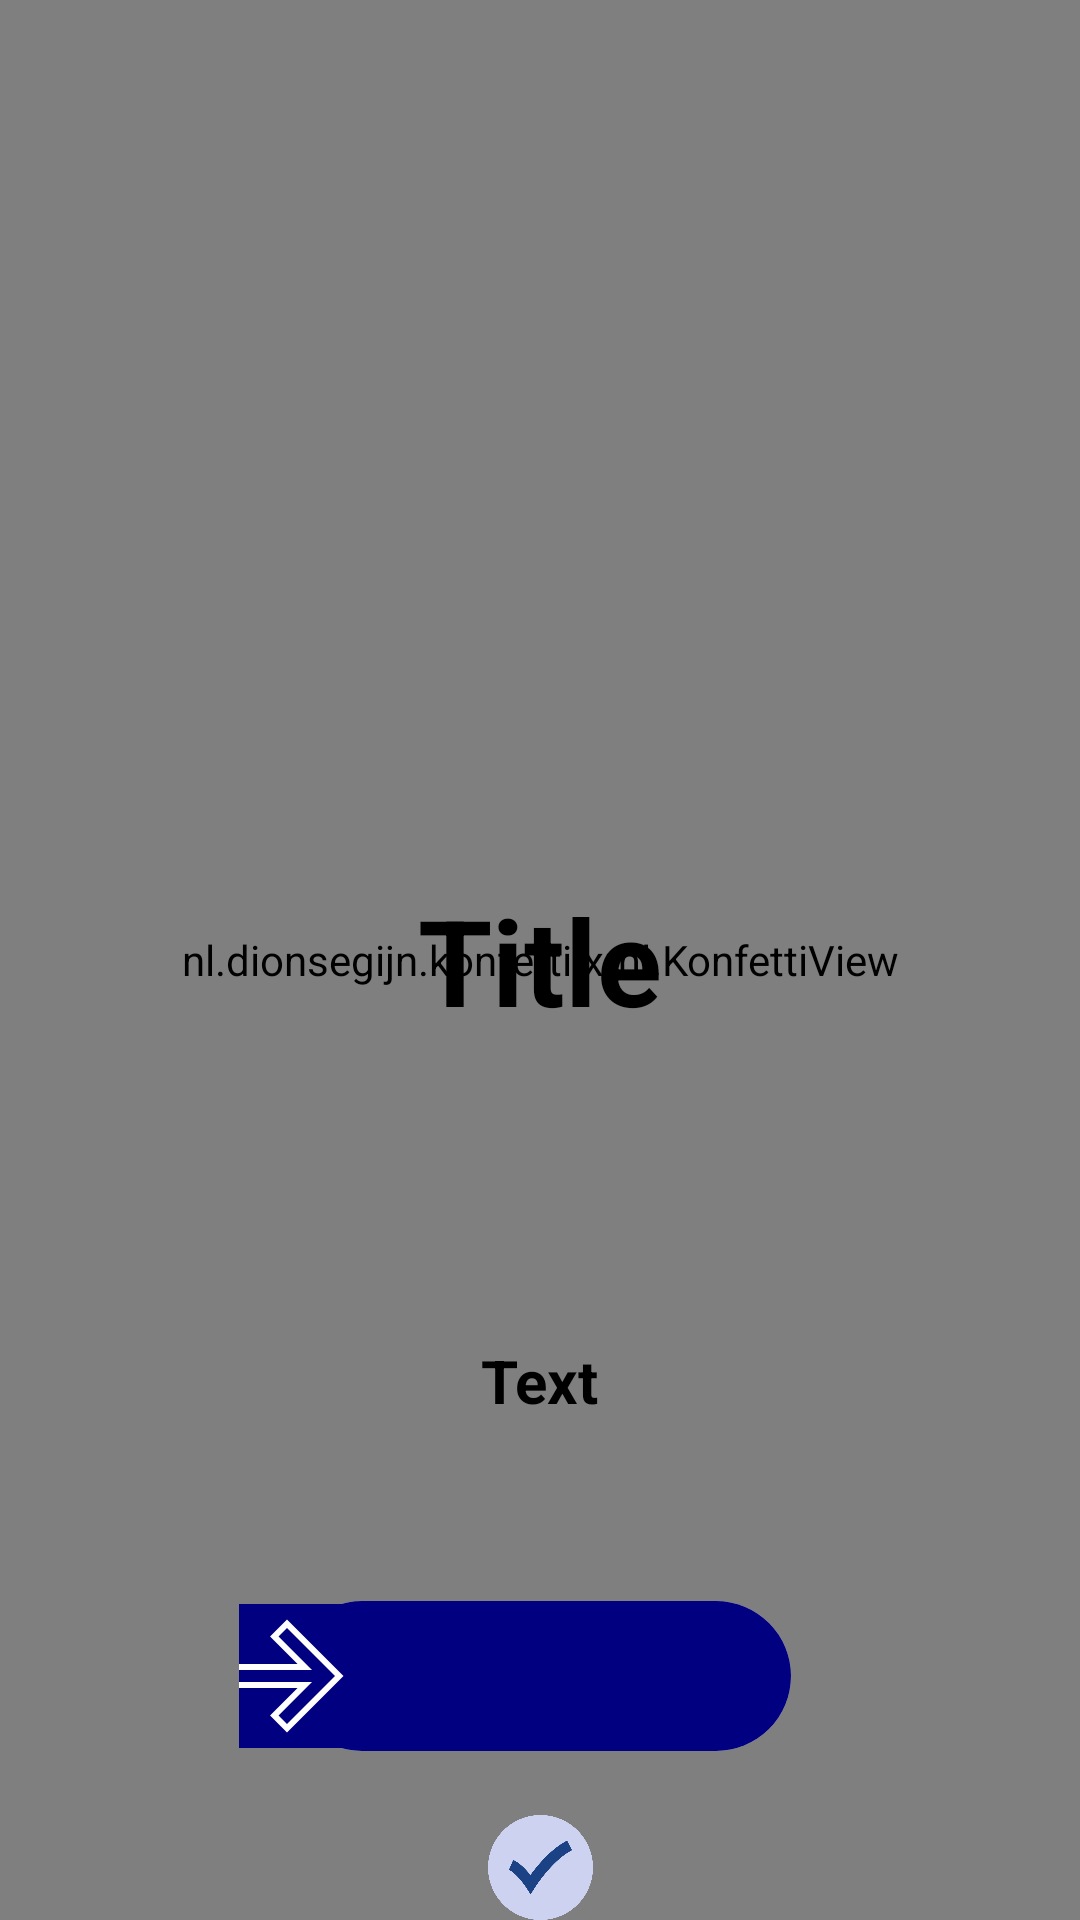

Where to tap for icons on this 1080px×1920px app screen, as [x,y]:
check: [540,1867]
